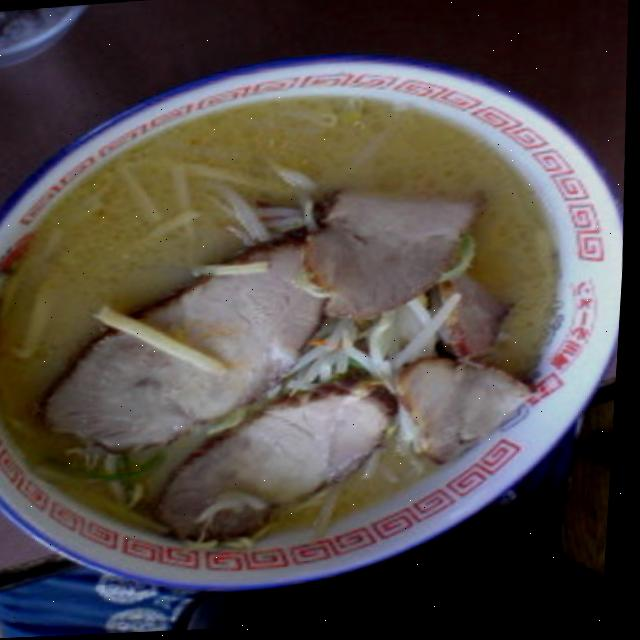面条主食: (0, 124, 606, 640)
